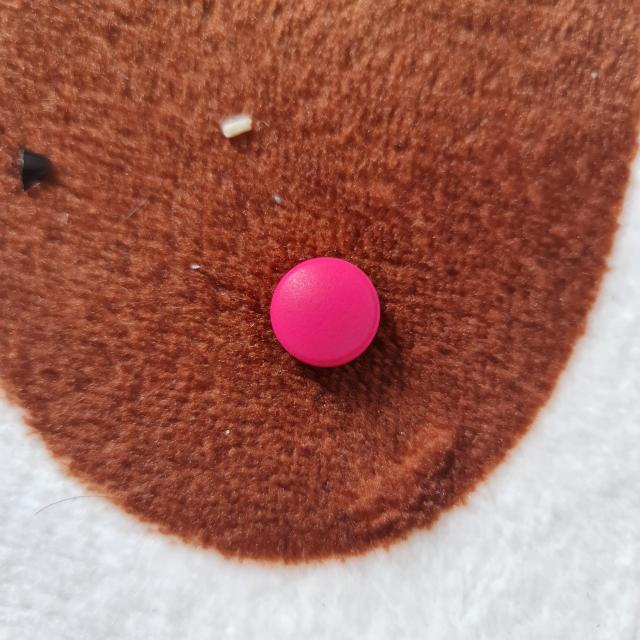pill: (264, 254, 386, 372)
